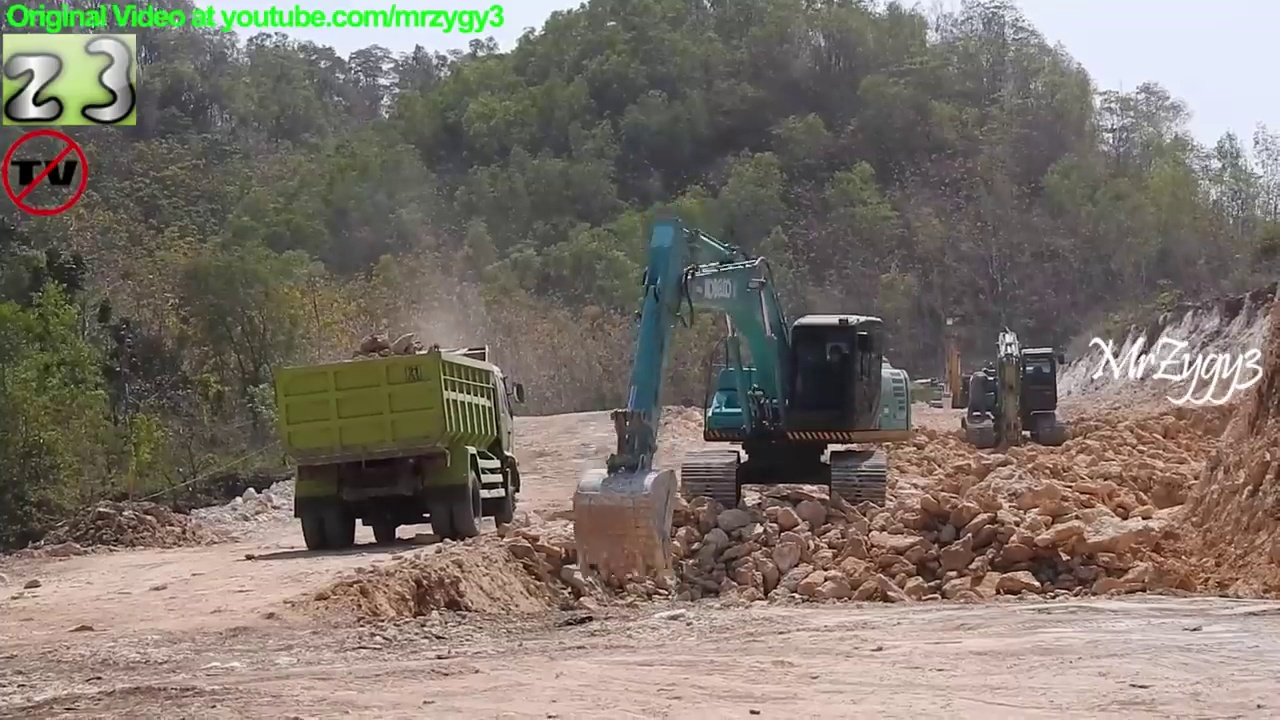excavator: (569, 212, 924, 592), (957, 323, 1074, 459), (917, 310, 991, 421)
truck: (268, 338, 531, 559)
